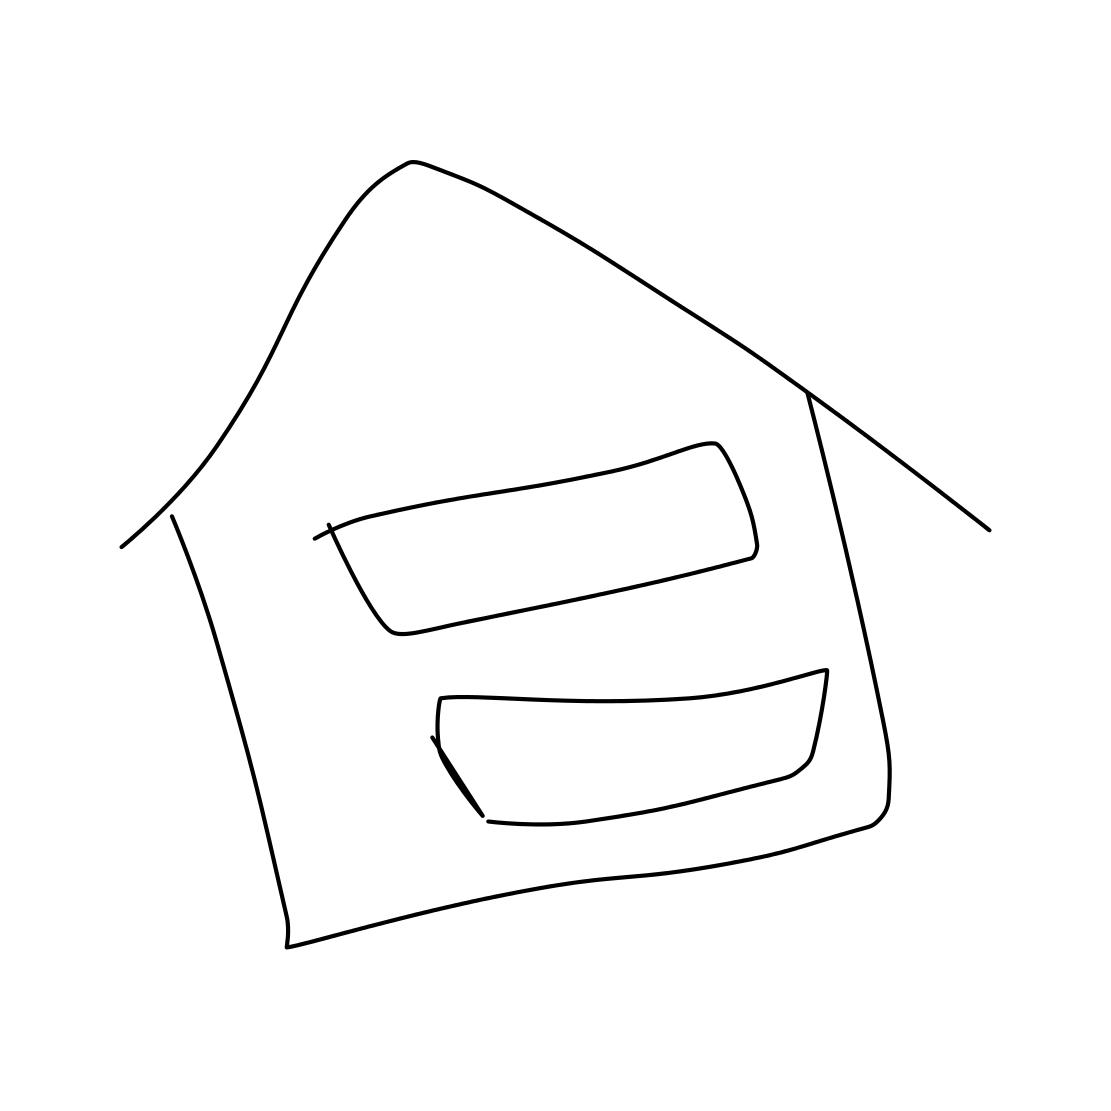house: (92, 125, 1027, 974)
roof: (83, 131, 1020, 596)
wall: (160, 201, 933, 970)
window: (310, 440, 795, 643), (413, 661, 846, 828)
